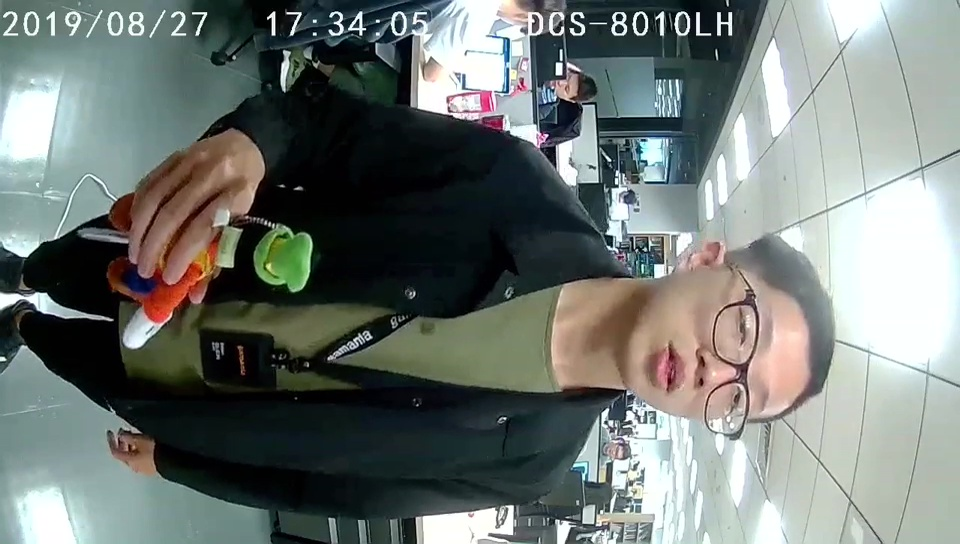goofy: (107, 195, 308, 352)
